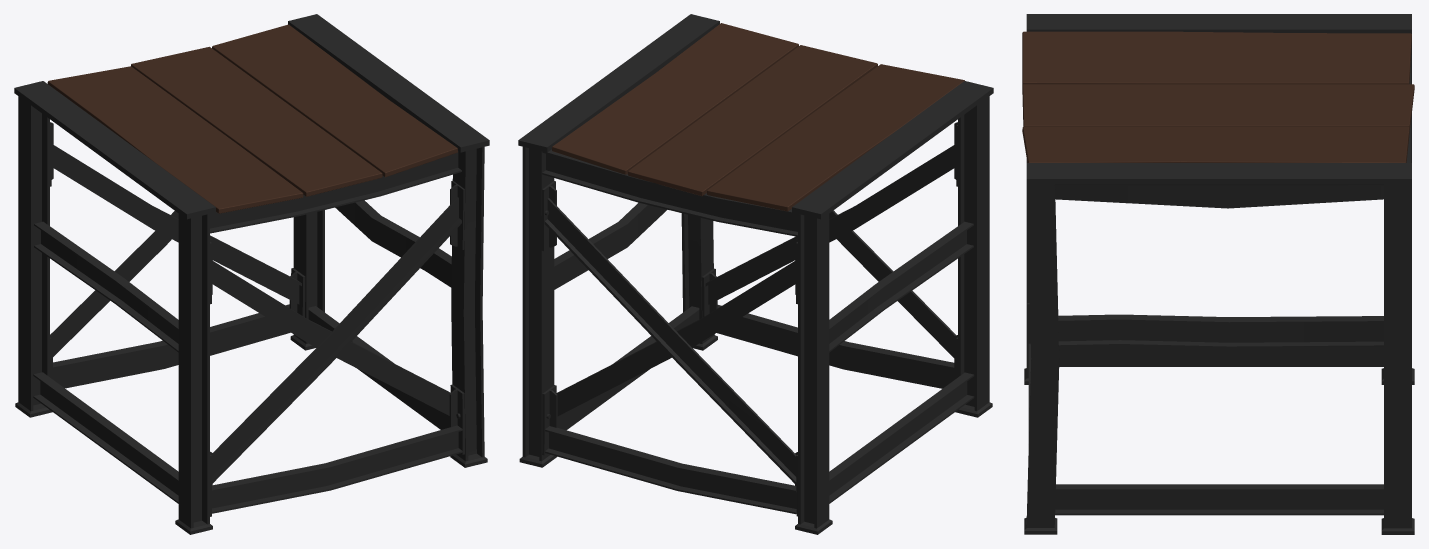
The model's file is Steelbase_Top_Metal_01.FBX.
3 renders of one model, left to right at view 1: azimuth 30°, elevation 25°; view 2: azimuth 150°, elevation 25°; view 3: azimuth 270°, elevation 25°, orthographic. The views are drawn at different scales.
Visible parts, largest first — view 1: Steelbase_Top_Metal_01_LOD0; view 2: Steelbase_Top_Metal_01_LOD0; view 3: Steelbase_Top_Metal_01_LOD0.
Boxes of the visible parts, box(x1,y1,x2,y2) form: Steelbase_Top_Metal_01_LOD0: box(14, 14, 489, 534); Steelbase_Top_Metal_01_LOD0: box(518, 14, 993, 534); Steelbase_Top_Metal_01_LOD0: box(1022, 14, 1414, 534).
Size of what is drawn, in the model's own units: 399 by 403 by 401.
